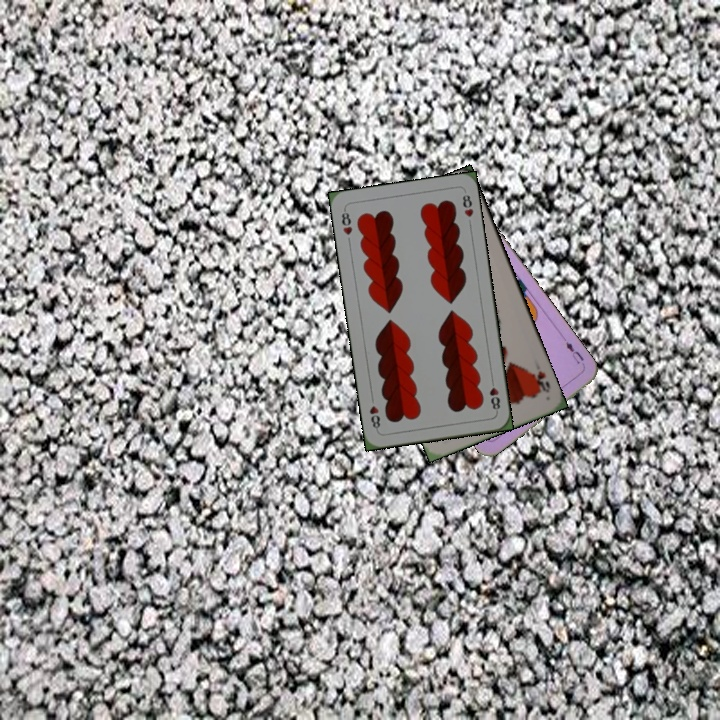EU: (560, 335, 588, 370)
H8: (485, 374, 502, 415), (338, 205, 355, 237)
HO: (527, 366, 553, 396)
